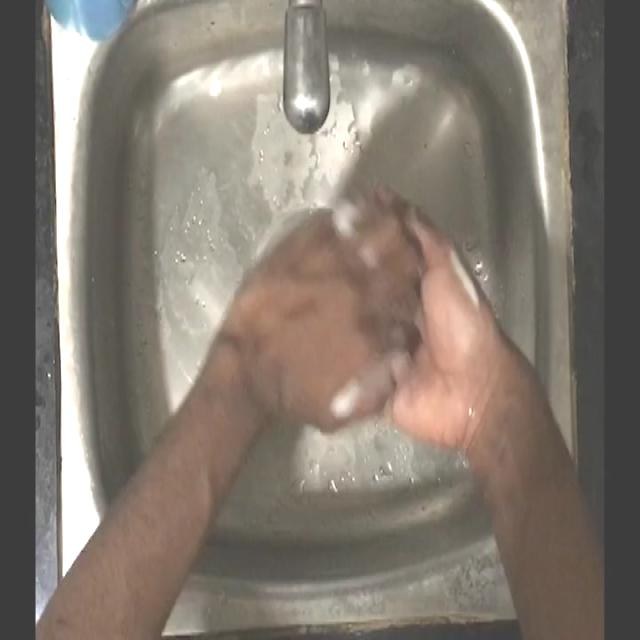step_4: (230, 192, 489, 442)
